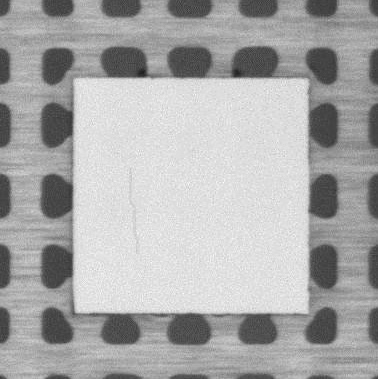DIE_CRACK: (129, 169, 143, 258)
